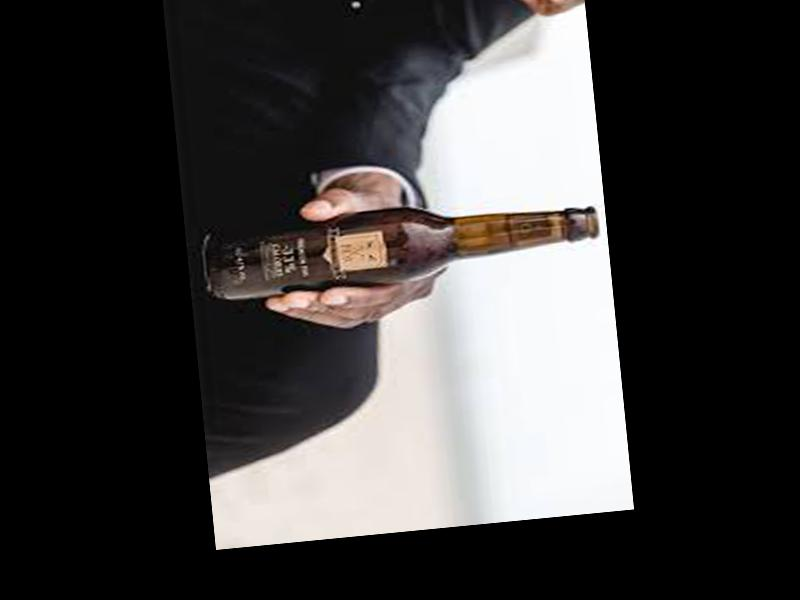Beer: (199, 191, 602, 303)
